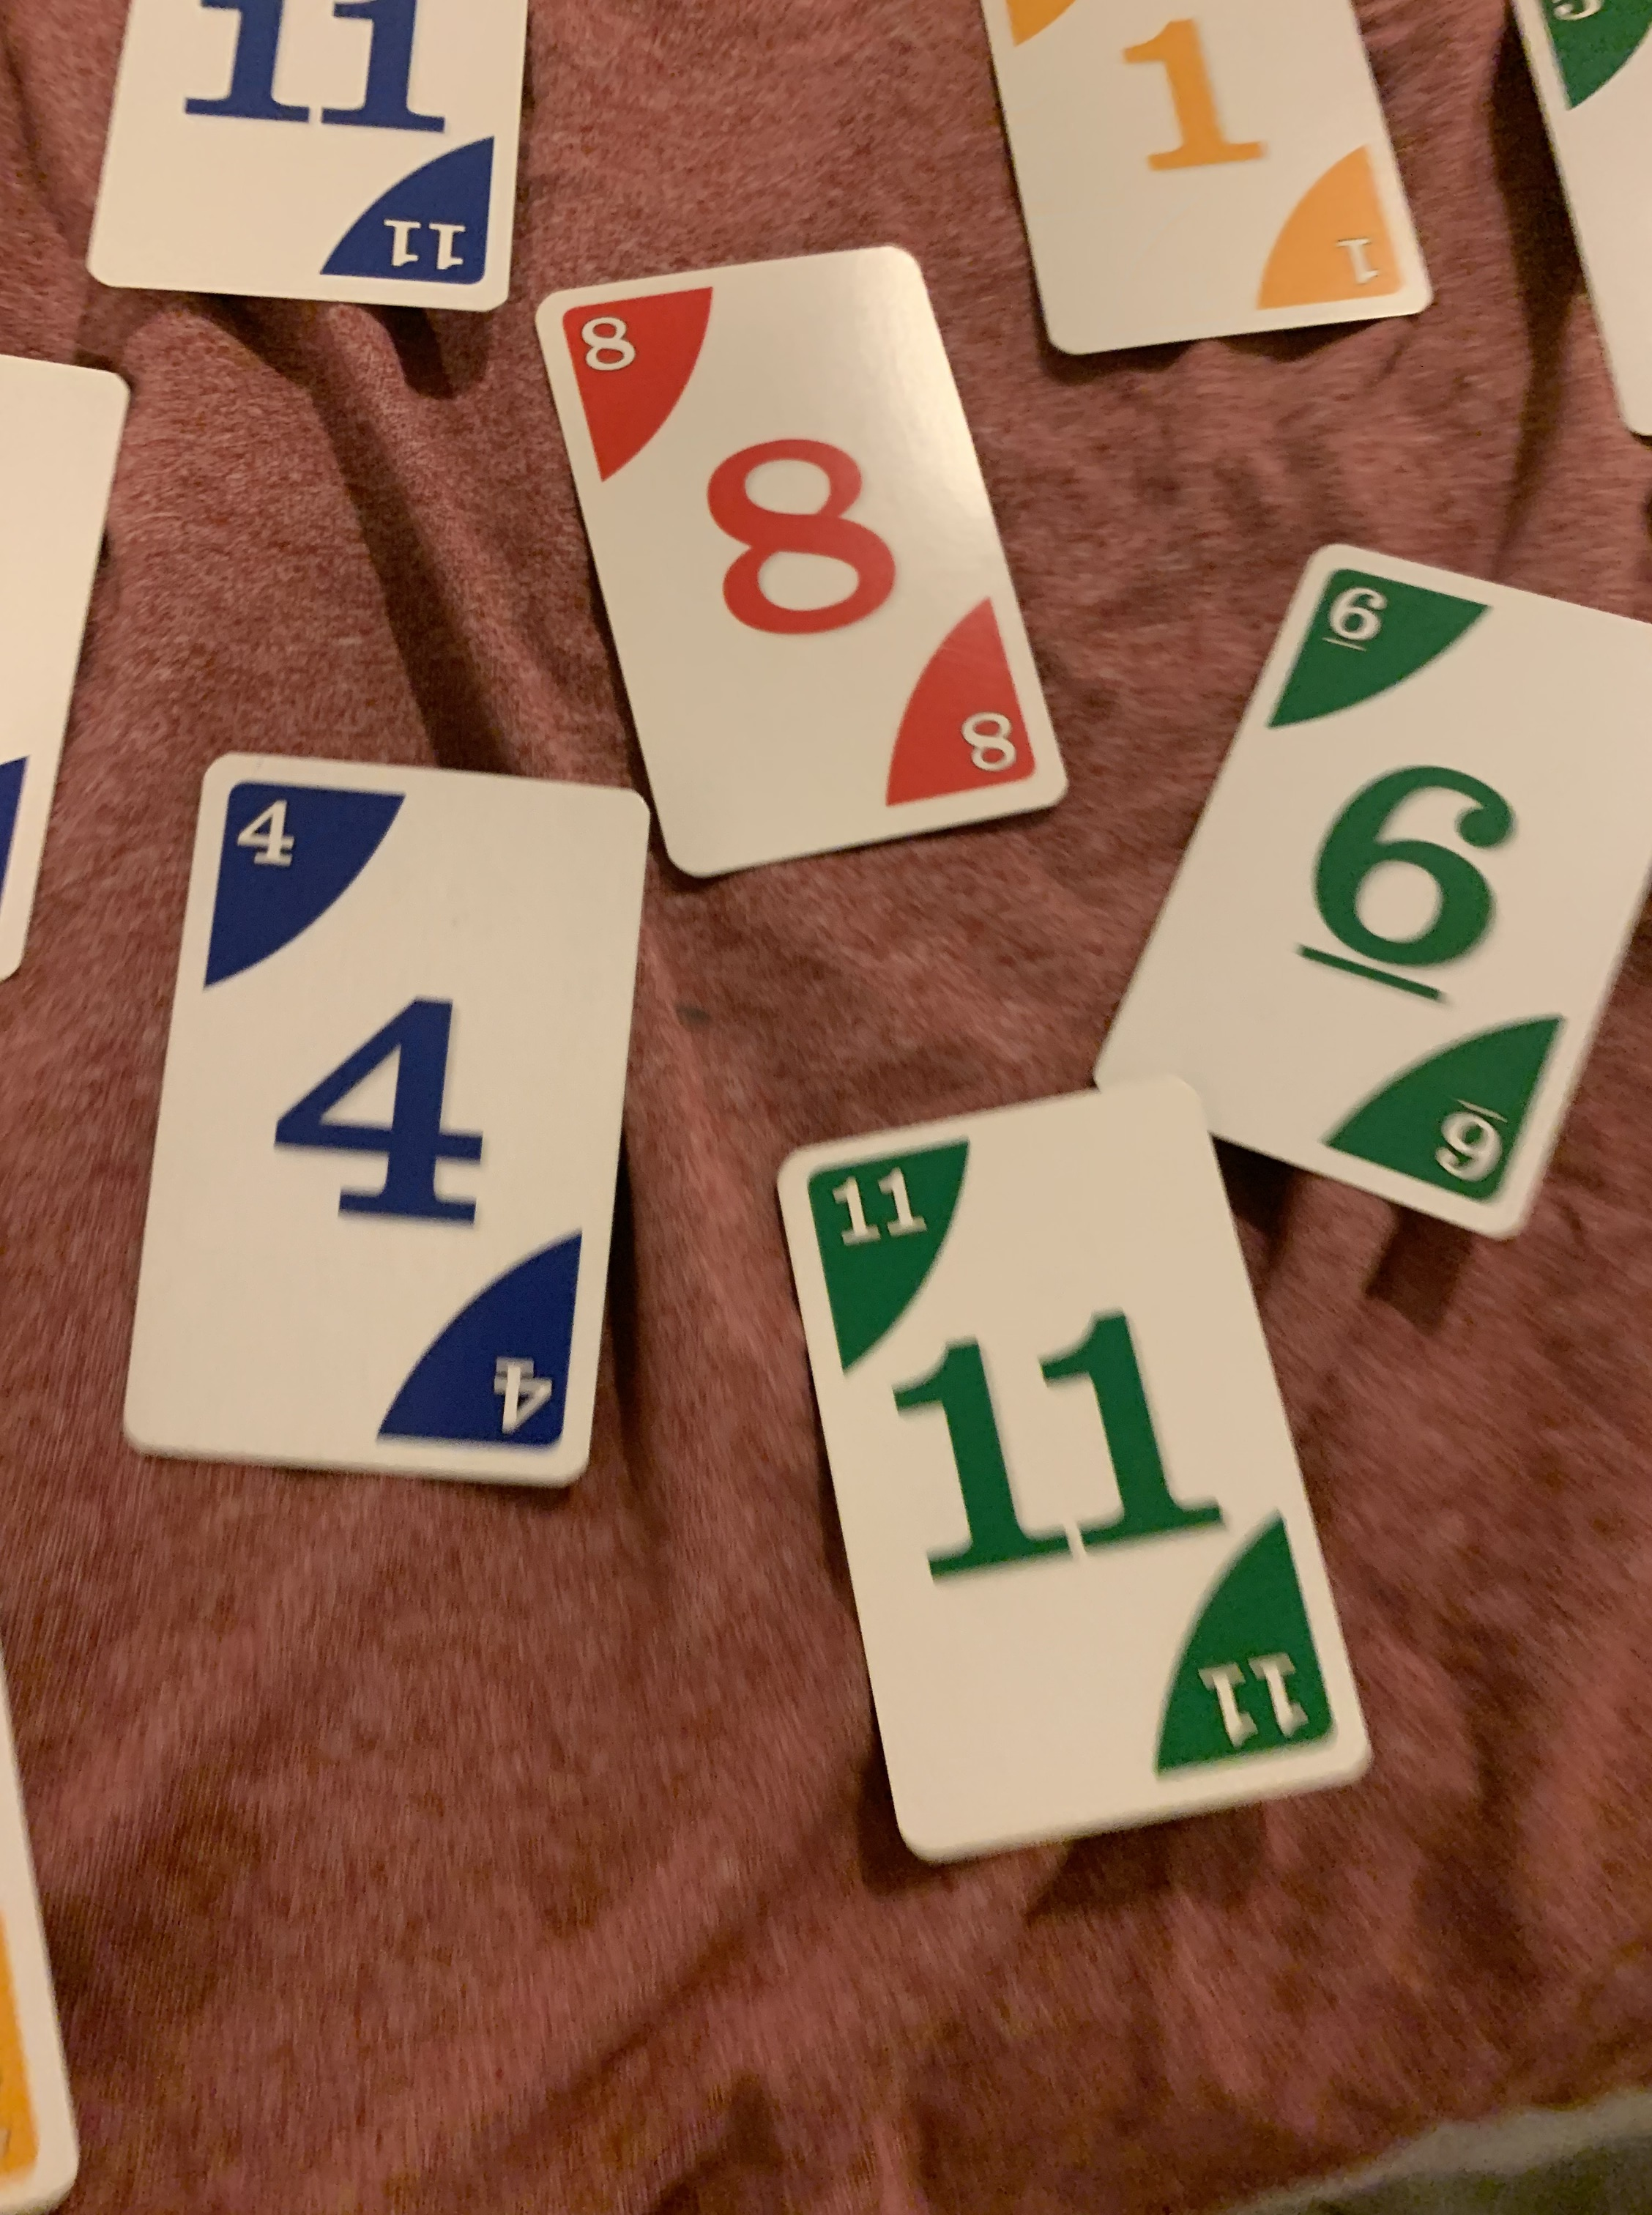eight: (531, 240, 1078, 887)
eleven: (762, 1071, 1381, 1873), (97, 0, 543, 326)
four: (113, 746, 670, 1500)
six: (1088, 542, 1652, 1269)
